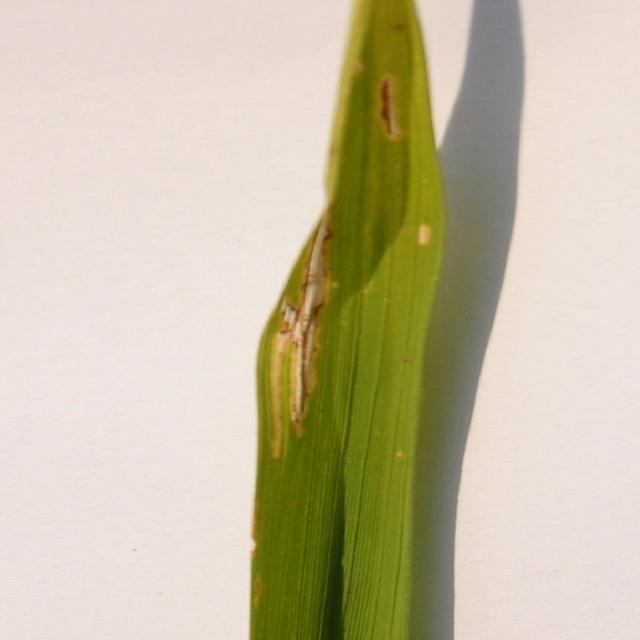leaf blight: (252, 221, 354, 472), (348, 48, 414, 145)
